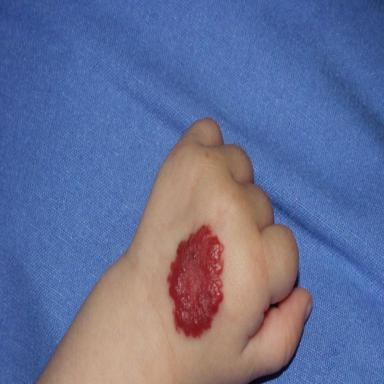Hemangiome: (168, 225, 223, 337)
